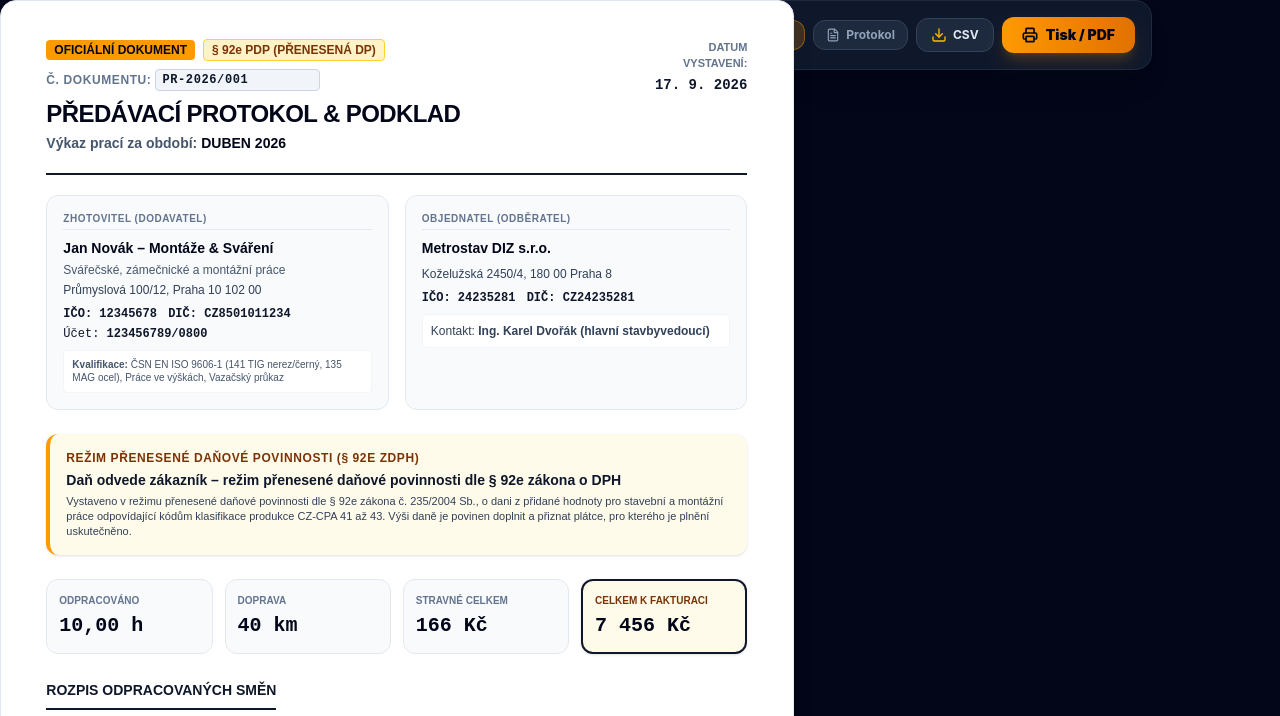
Milestone M1 Adversarial Verification (Challenger 2) › 3. Print & Report Layout & § 92e PDP Verification › displays 0% VAT breakdown and zero VAT amount in Invoice mode under PDP
# Switch to Invoice mode
What coordinates should you click on to do the following:
click the button "Protokol"
I would click on:
 (861, 35)
Its box is x1=813 y1=20 x2=908 y2=50.
(page scrolled)
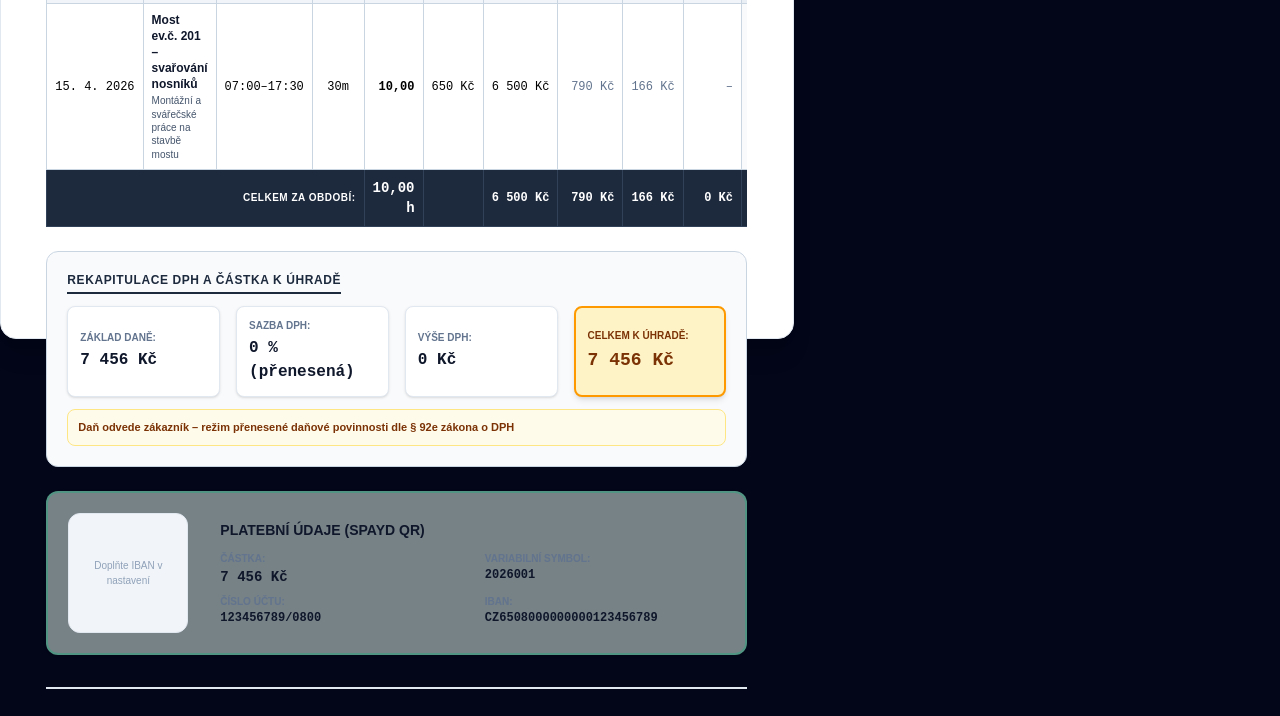
Check: the heading "Rekapitulace DPH a částka k úhradě" is shown, box x1=67 y1=272 x2=341 y2=294
Check: the text "0 % (přenesená)" is shown, box x1=249 y1=340 x2=355 y2=382
